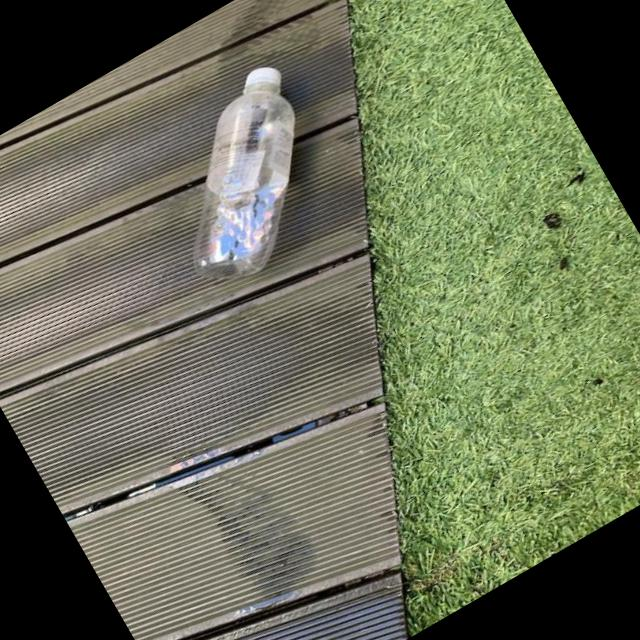BotolPlastik: (122, 56, 364, 300)
